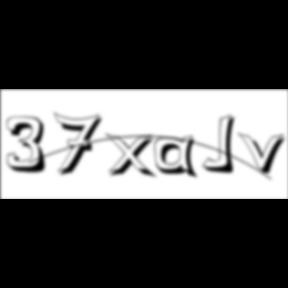3: (7, 116, 53, 176)
7: (54, 111, 108, 179)
J: (202, 114, 242, 176)
a: (155, 135, 203, 182)
x: (106, 132, 161, 181)
